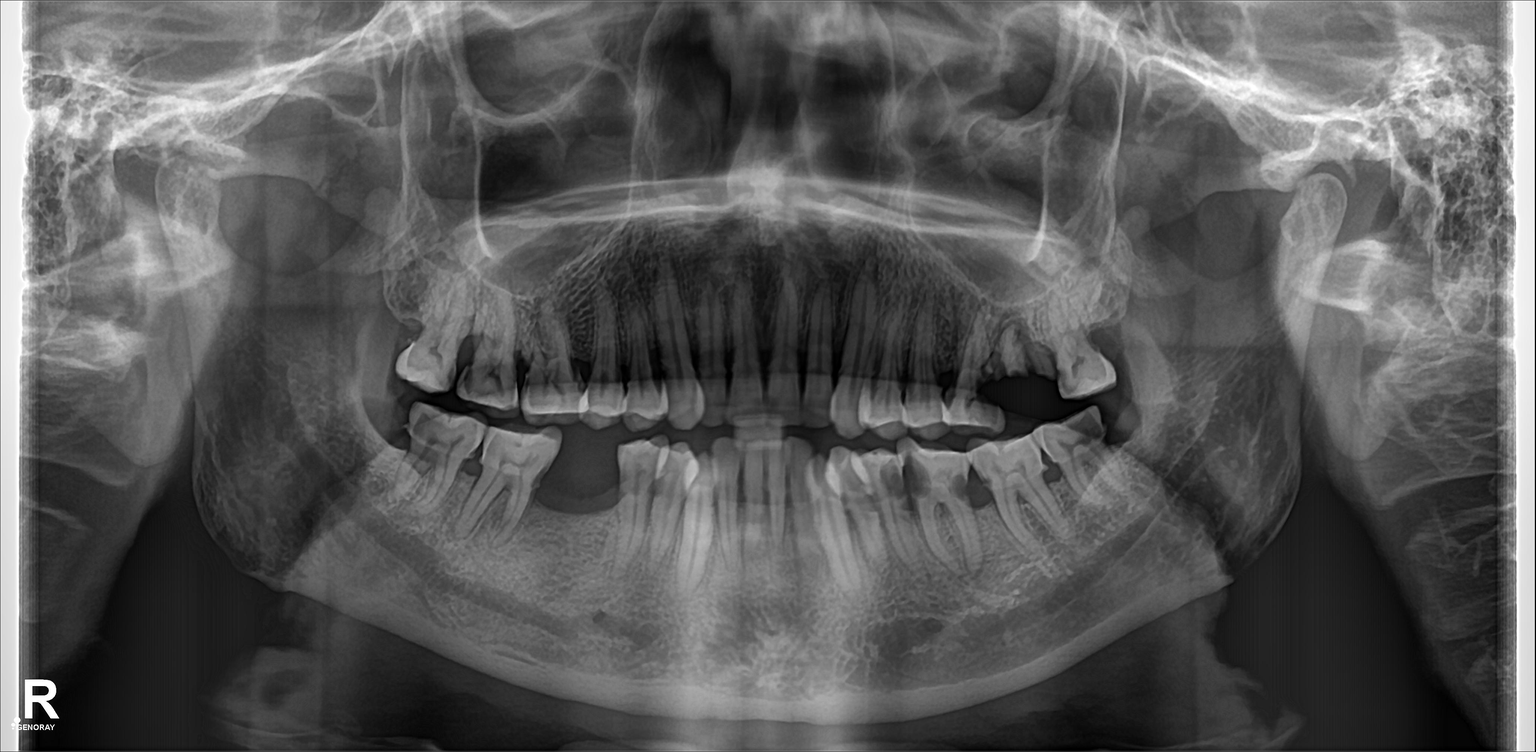Dental Caries: (953, 465, 992, 508), (1037, 452, 1070, 486), (454, 329, 475, 374), (898, 456, 924, 492), (1075, 411, 1098, 448), (879, 462, 904, 496)
Missing Tooth: (561, 434, 615, 524)
Retained Root: (987, 333, 1024, 423), (1026, 328, 1061, 396)
